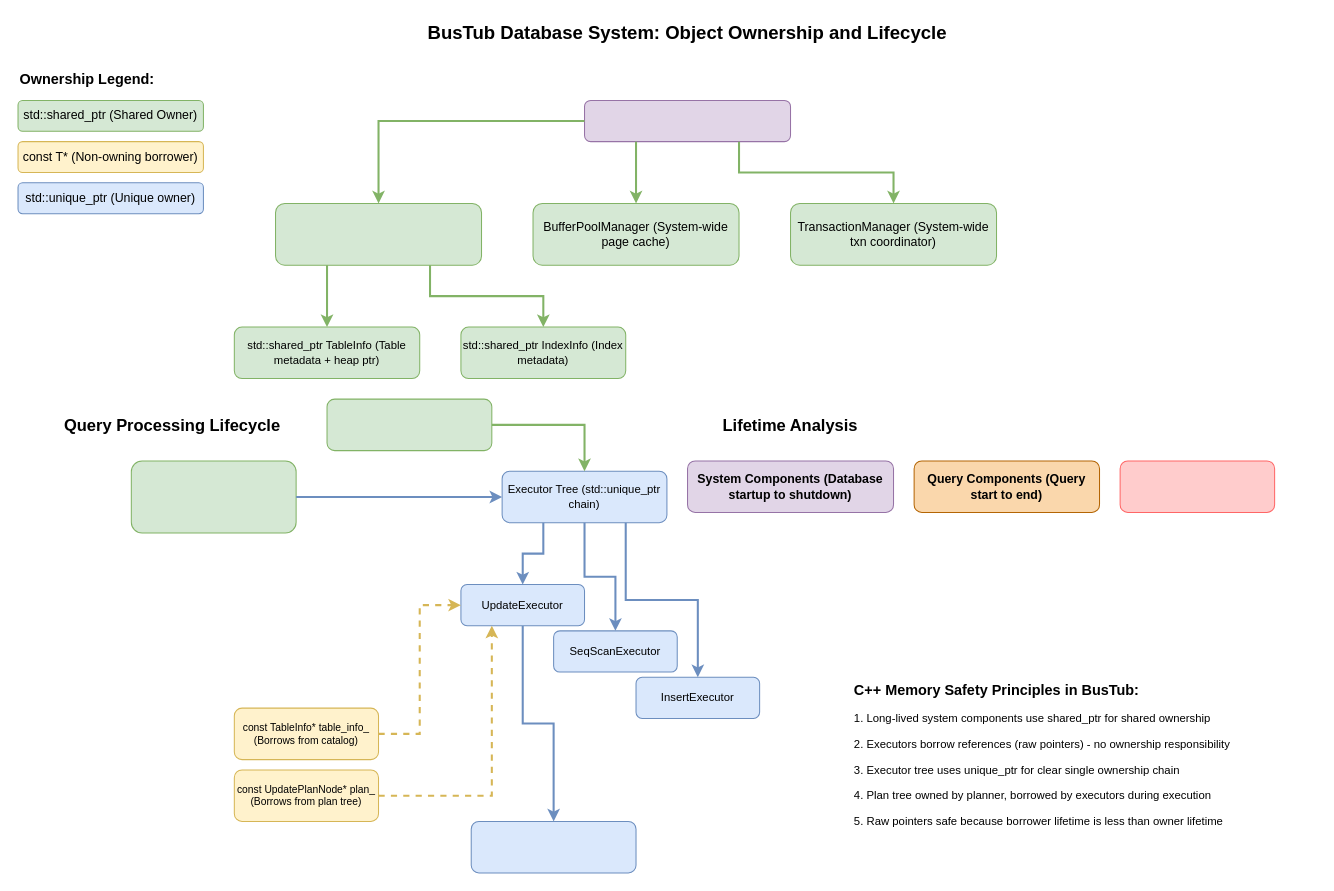
This 1334x891 diagram has some shape labels left out. The box of each missing label's shape, as (x1, y1, x2, y2) in pixels:
Catalog (System-wide schema manager): (274, 202, 482, 265)
Database Instance: (583, 99, 791, 142)
ExecutorContext (Query execution context): (326, 398, 492, 451)
Executors (Execution phase only): (1119, 460, 1275, 512)
Query Plan Tree (PlanNode hierarchy) Created by Planner: (130, 460, 296, 533)
std::unique_ptr AbstractExecutor child_executor_ (Owns child in tree): (470, 820, 636, 873)
